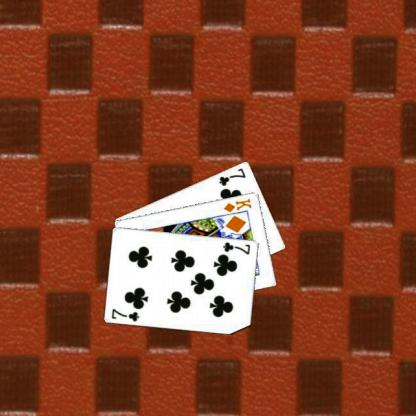7C: (216, 165, 247, 187), (220, 239, 252, 256), (108, 306, 140, 323)
KD: (221, 196, 253, 213)
